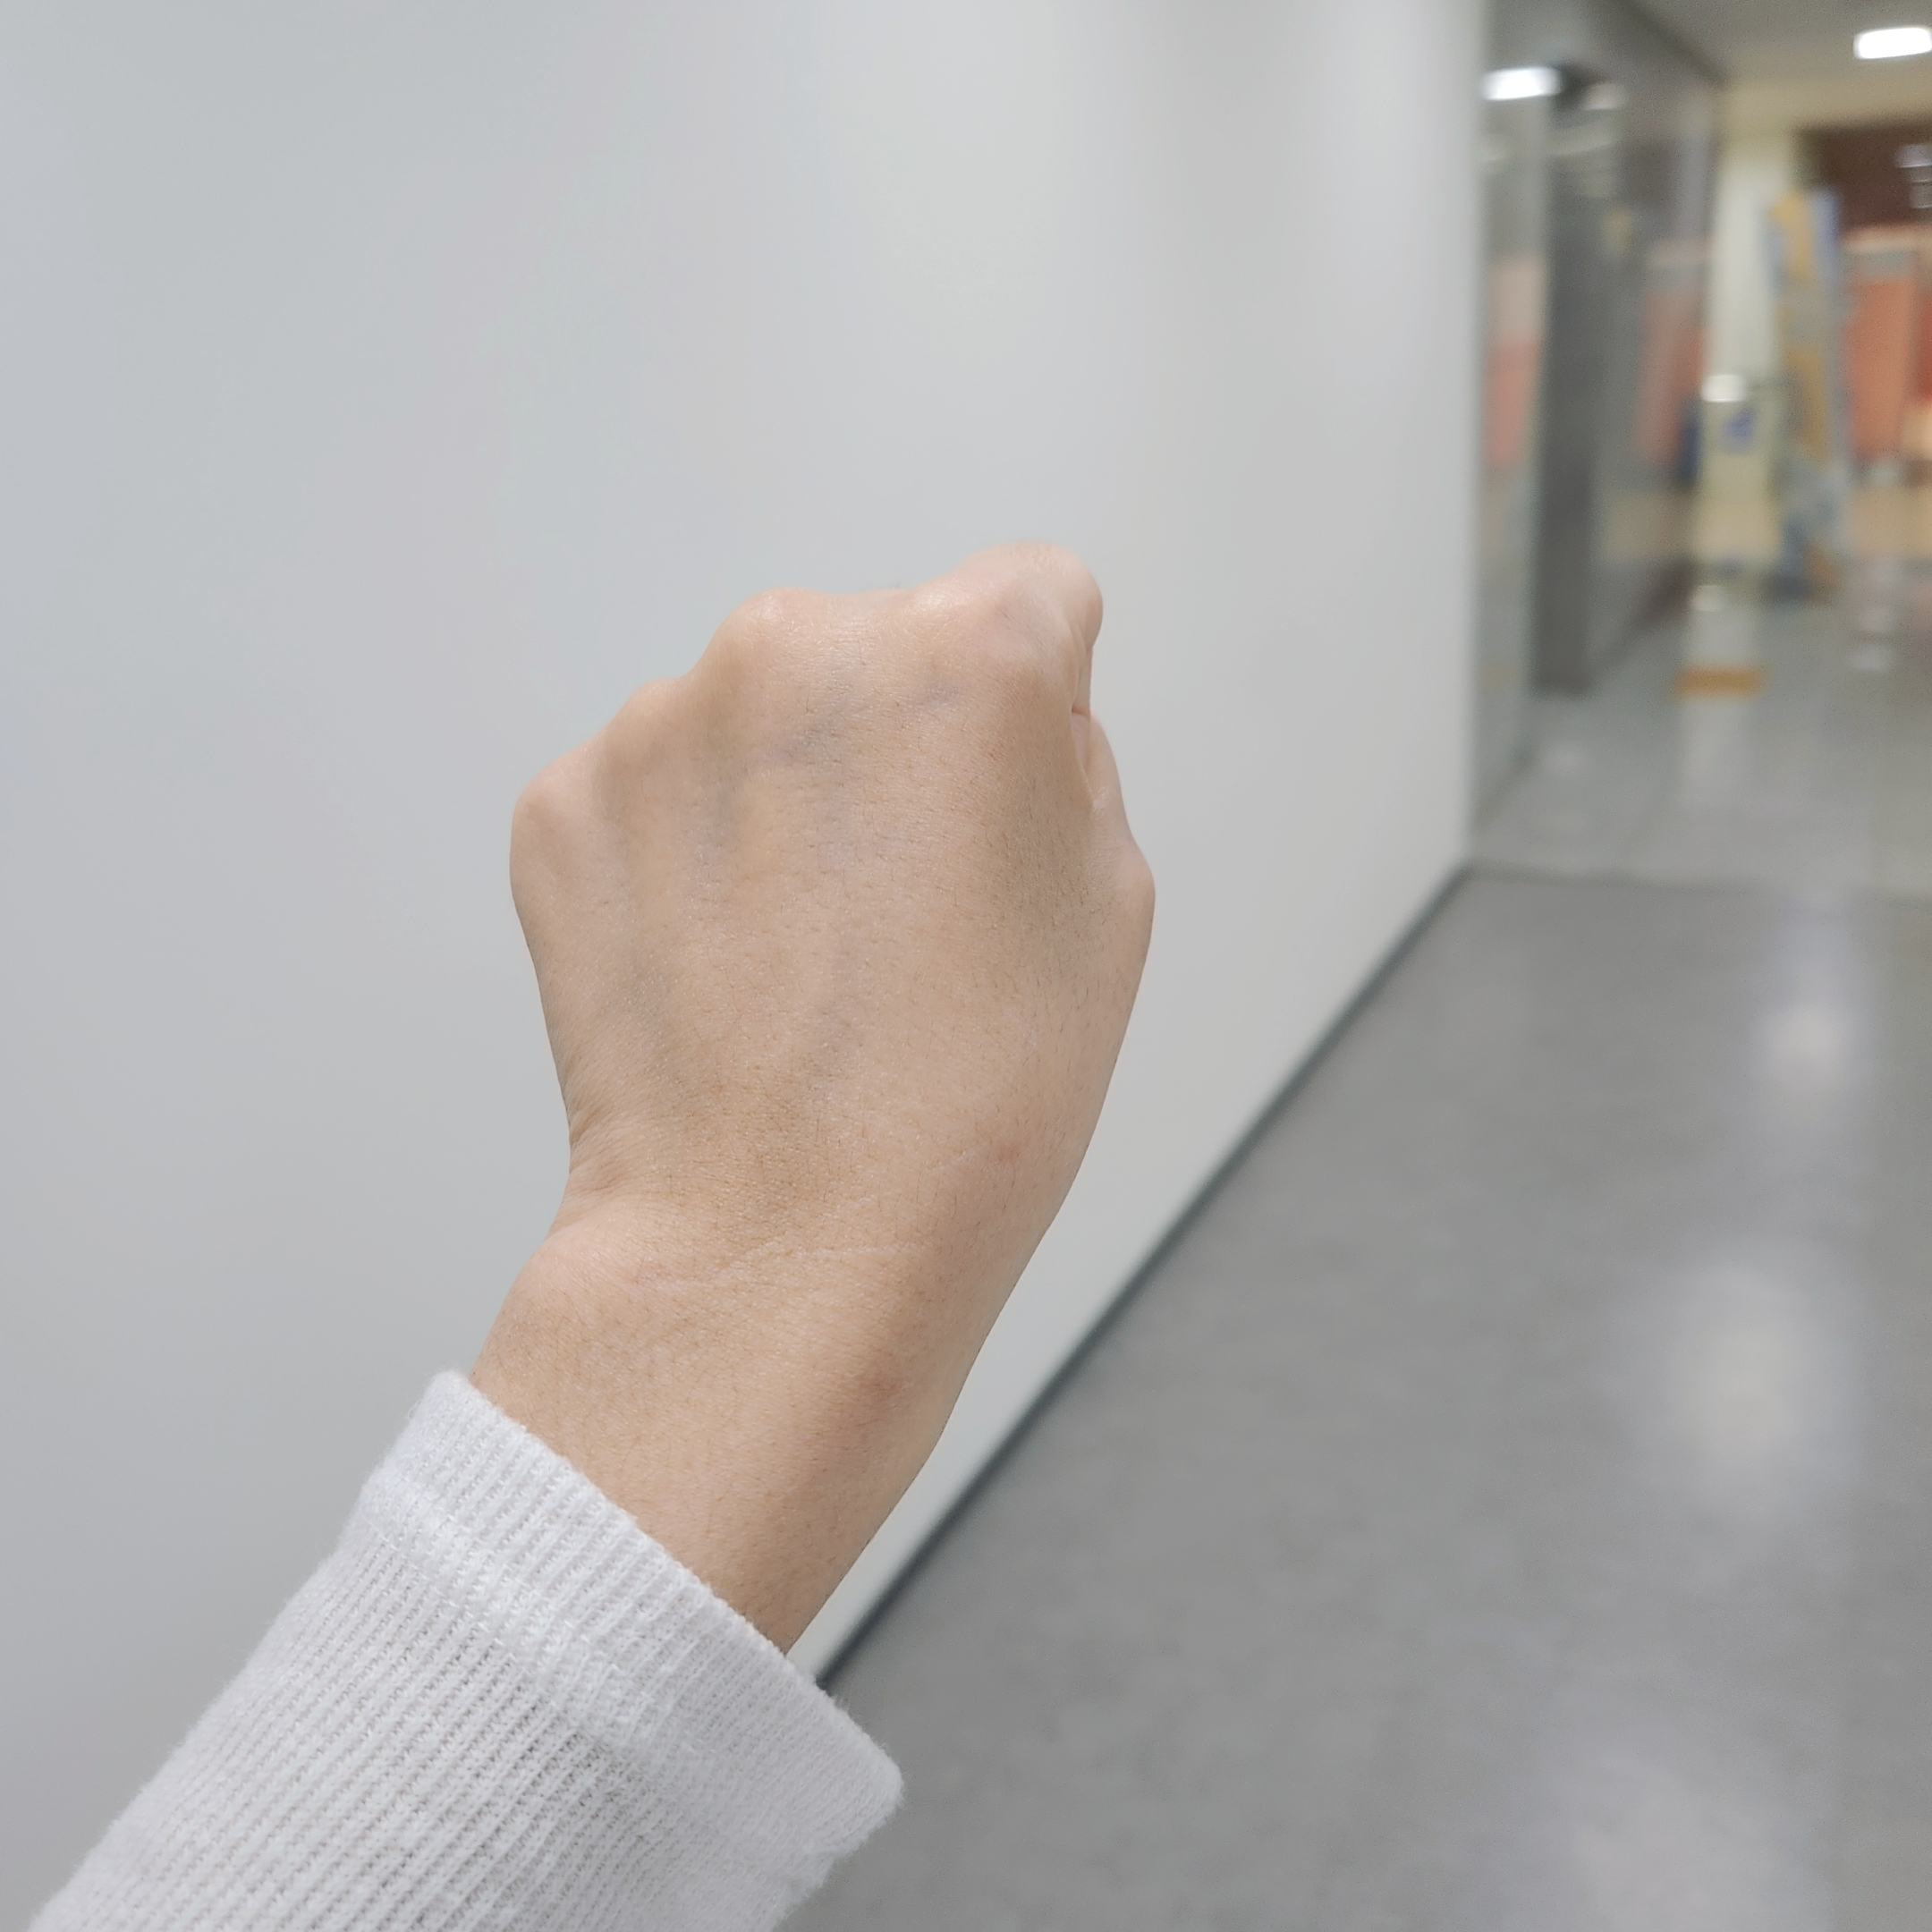smile: (500, 530, 1169, 1291)
